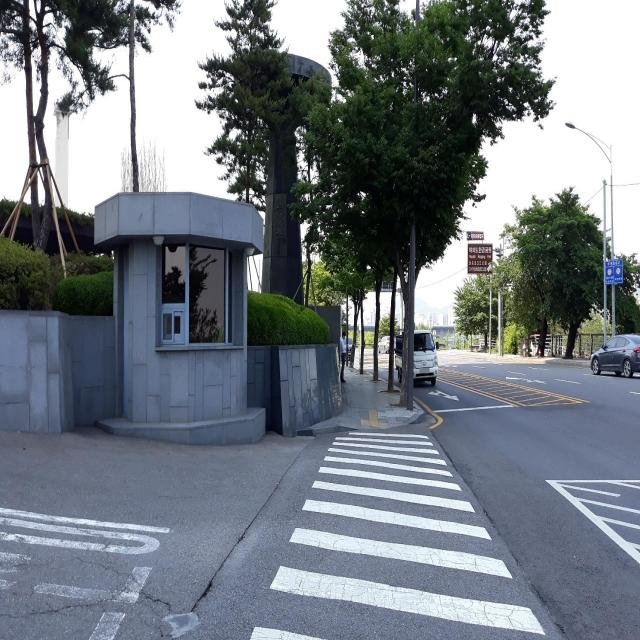횡단보도: (254, 432, 547, 639)
